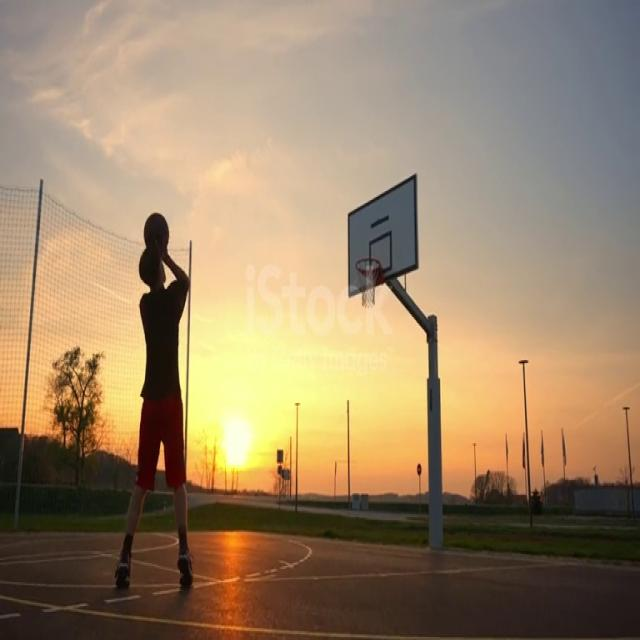ball: (144, 212, 168, 261)
